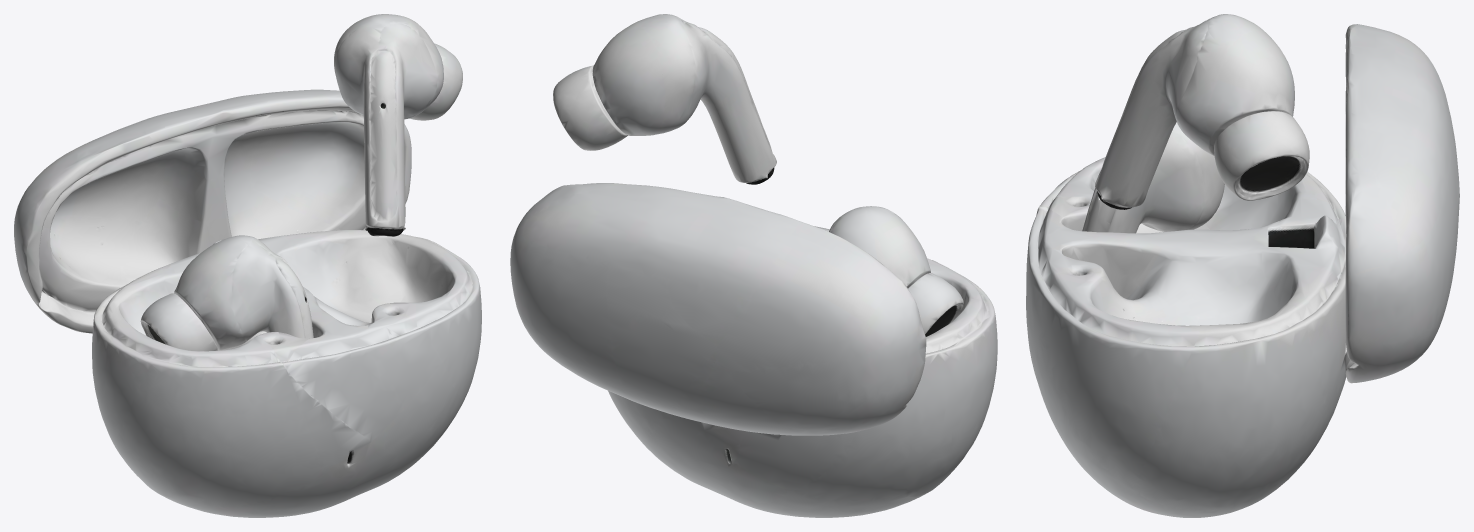
3 renders of one model, left to right at view 1: azimuth 30°, elevation 25°; view 2: azimuth 150°, elevation 25°; view 3: azimuth 270°, elevation 25°, orthographic. The views are drawn at different scales.
Parts seen in each view (by area): view 1: tripo_node_8a0e7842-a463-4551-b1f5-05c744c61043; view 2: tripo_node_8a0e7842-a463-4551-b1f5-05c744c61043; view 3: tripo_node_8a0e7842-a463-4551-b1f5-05c744c61043.
Boxes of the visible parts, <box> form: tripo_node_8a0e7842-a463-4551-b1f5-05c744c61043: <box>14,14,481,517</box>; tripo_node_8a0e7842-a463-4551-b1f5-05c744c61043: <box>510,14,997,517</box>; tripo_node_8a0e7842-a463-4551-b1f5-05c744c61043: <box>1026,14,1459,517</box>.
Bounding box in the file's own units: 0.9203 × 0.9996 × 0.7426.
Materials: 1 (1 with a texture image).
